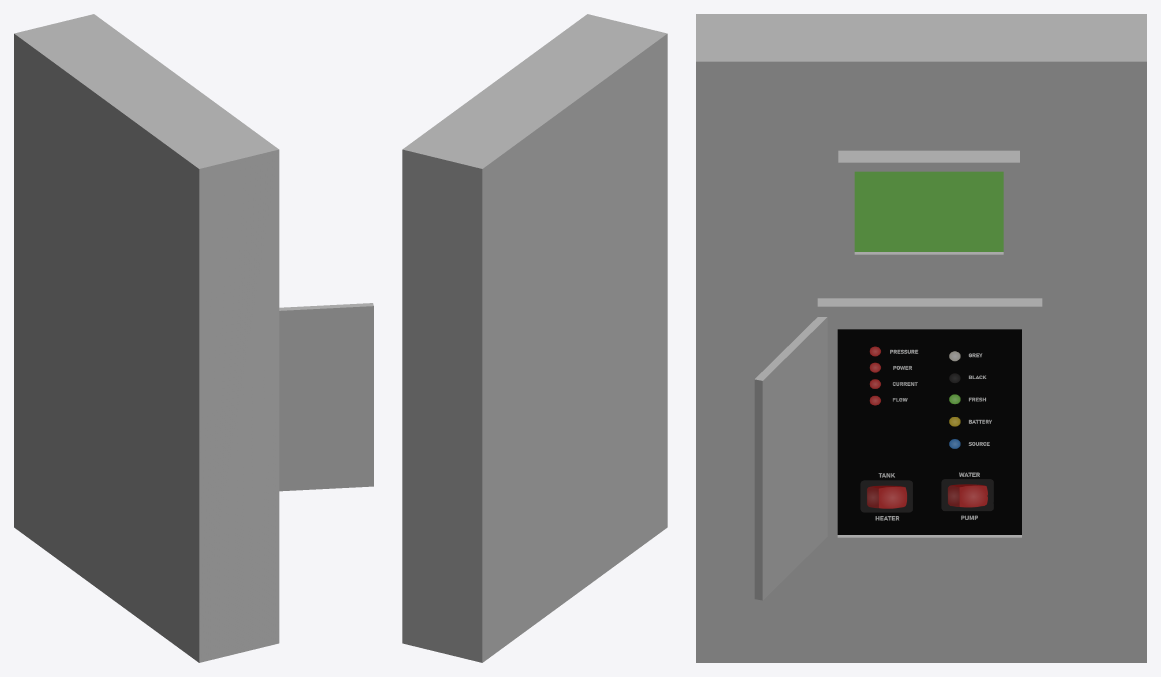
The model's file is terminal.fbx.
3 views of the same model, side by side, from view 1: azimuth 30°, elevation 25°; view 2: azimuth 150°, elevation 25°; view 3: azimuth 270°, elevation 25° (orthographic). The views are drawn at different scales.
Visible parts, largest first — view 1: terminal_box.001, terminal_box1; view 2: terminal_box.001; view 3: terminal_box.001, terminal_screen.003, terminal_screen.002, terminal_box1.
Boxes of the visible parts, box(x1,y1,x2,y2) form: terminal_box.001: box(14, 14, 279, 662); terminal_box1: box(279, 303, 373, 491); terminal_box.001: box(402, 14, 667, 662); terminal_box.001: box(696, 14, 1146, 662); terminal_screen.003: box(817, 298, 1042, 560); terminal_screen.002: box(838, 150, 1019, 263); terminal_box1: box(754, 317, 827, 600).
Size of the model in its own units: 75.5 by 177 by 120.
